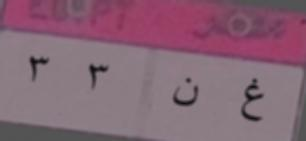3: (85, 60, 113, 97), (26, 50, 50, 86)
ghayn: (238, 73, 270, 127)
noon: (169, 71, 203, 115)
